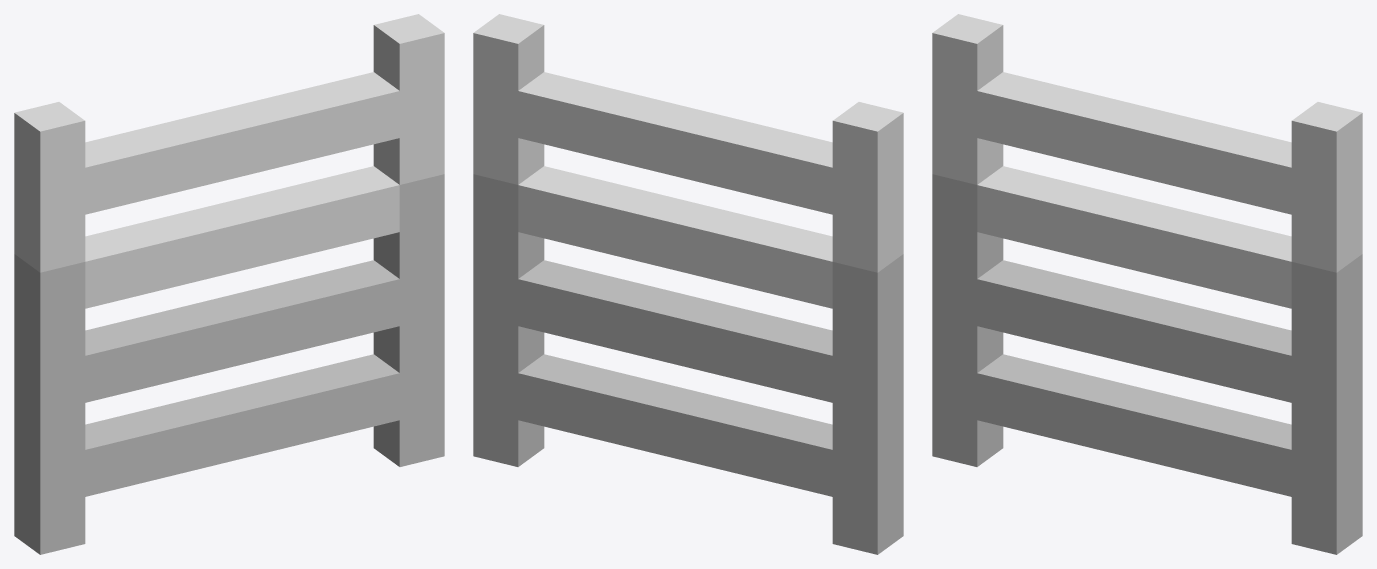
Rendered from ConstructionMaterials-98.obj.
3 views of the same model, side by side, from view 1: azimuth 30°, elevation 25°; view 2: azimuth 150°, elevation 25°; view 3: azimuth 330°, elevation 25° (orthographic).
Bounding box in the file's own units: 0.9 × 0.9 × 0.1.
Materials: 1 (1 with a texture image).
